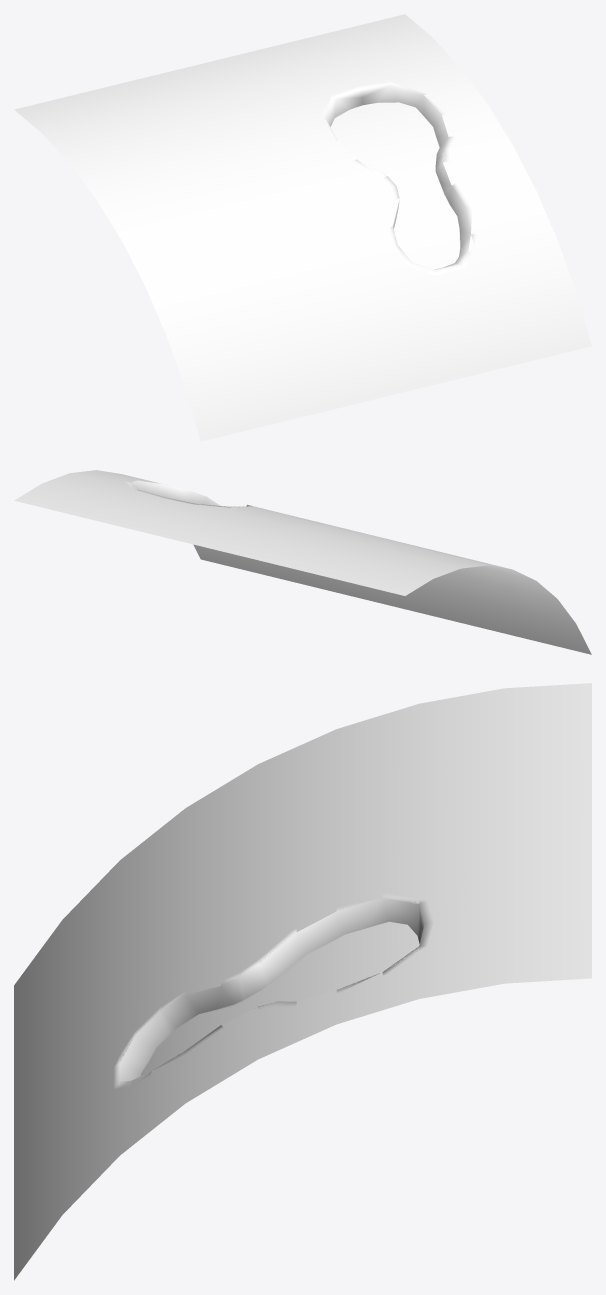
File: grd_F_R_0.dae
The picture shows the model from 3 angles, top to bottom: view 1: azimuth 30°, elevation 25°; view 2: azimuth 150°, elevation 25°; view 3: azimuth 270°, elevation 25°; orthographic projection. The views are drawn at different scales.
Visible parts, largest first — view 1: grass_1_0, river_2_0, smat_4_0, cliff_river_0_0, river_edge_3_0; view 2: grass_1_0, smat_4_0, cliff_river_0_0; view 3: grass_1_0, cliff_river_0_0, smat_4_0, river_2_0, river_edge_3_0.
Part boxes in pixels (<box>): grass_1_0: <box>14,14,591,441</box>; river_2_0: <box>331,103,459,269</box>; smat_4_0: <box>143,115,275,193</box>; cliff_river_0_0: <box>319,81,477,275</box>; river_edge_3_0: <box>330,102,460,269</box>; grass_1_0: <box>14,470,591,654</box>; smat_4_0: <box>288,523,417,550</box>; cliff_river_0_0: <box>124,480,256,508</box>; grass_1_0: <box>14,683,591,1280</box>; cliff_river_0_0: <box>113,893,433,1089</box>; smat_4_0: <box>296,759,461,868</box>; river_2_0: <box>141,922,419,1074</box>; river_edge_3_0: <box>141,921,419,1075</box>.
Bounding box in the file's own units: 512 × 244 × 423.
Materials: 5 (1 with a texture image).
